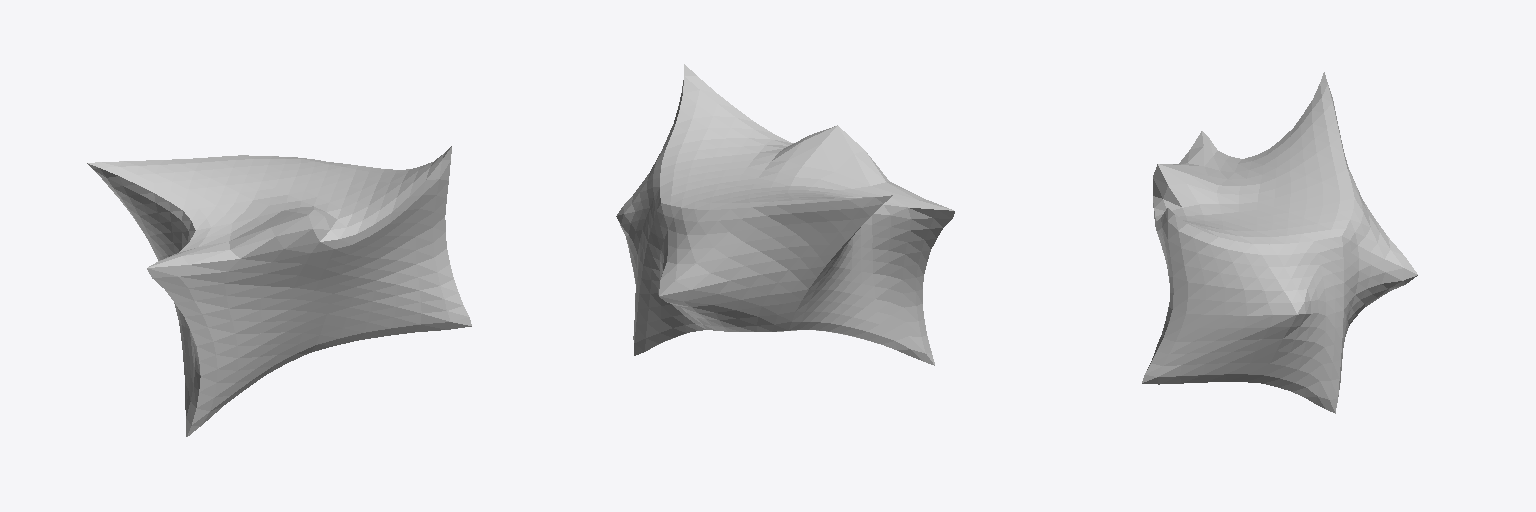
Rendered from webGLdemo.obj.
3 renders of one model, left to right at view 1: azimuth 30°, elevation 25°; view 2: azimuth 150°, elevation 25°; view 3: azimuth 270°, elevation 25°, orthographic.
Visible parts, largest first — view 1: Cube; view 2: Cube; view 3: Cube.
Boxes of the visible parts, x1=… form: Cube: x1=87, y1=146, x2=471, y2=436; Cube: x1=616, y1=64, x2=954, y2=365; Cube: x1=1142, y1=72, x2=1417, y2=413.
Bounding box in the file's own units: 3.46 × 2.61 × 2.79.